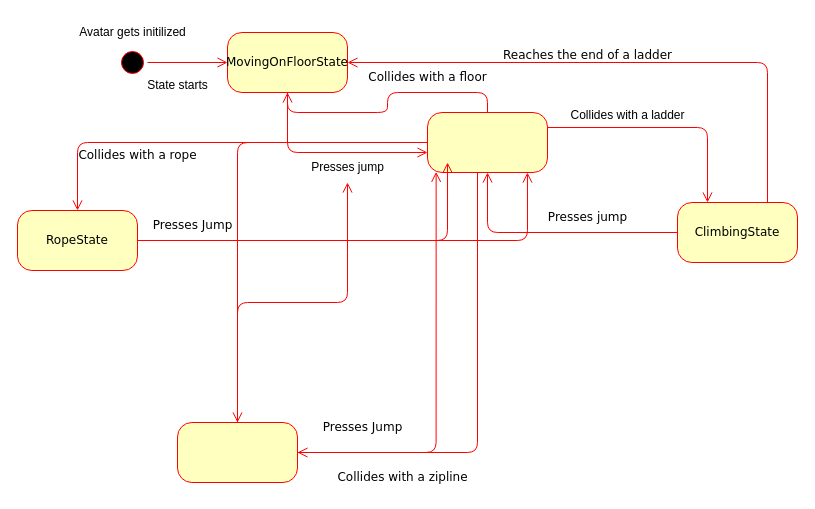
This 815x509 diagram has some shape labels left out. The shapes that lost their labels are listed below. From the top down, each one's centre as x and y in pixels, then its label:
At point (487, 142): "JumpingState".
At point (237, 452): "ZiplineState".
